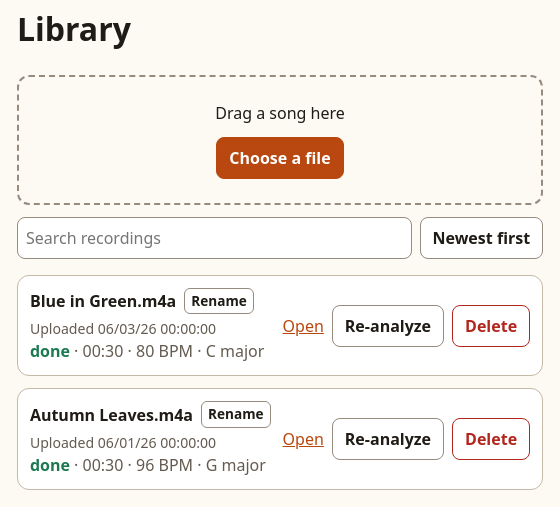
Test: shows a no-match message when search excludes everything
Check: the text "Autumn Leaves.m4a" is shown, box 30,403 -> 193,427
Type "zzz" into the search field with placeholder "Search recordings" at [214, 238], box 17,217 -> 412,259
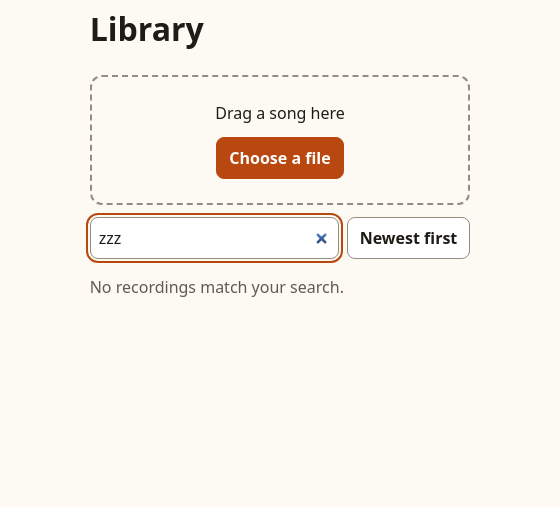
Check: the text "No recordings match your search." is shown, box 90,276 -> 344,298
